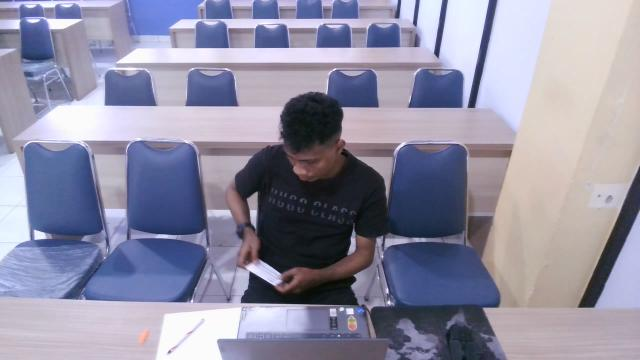Cheat_Sheet: (239, 255, 293, 295)
Head_Down_Extreme: (214, 83, 395, 352)
